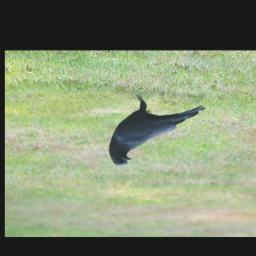Crow: (109, 94, 207, 168)
